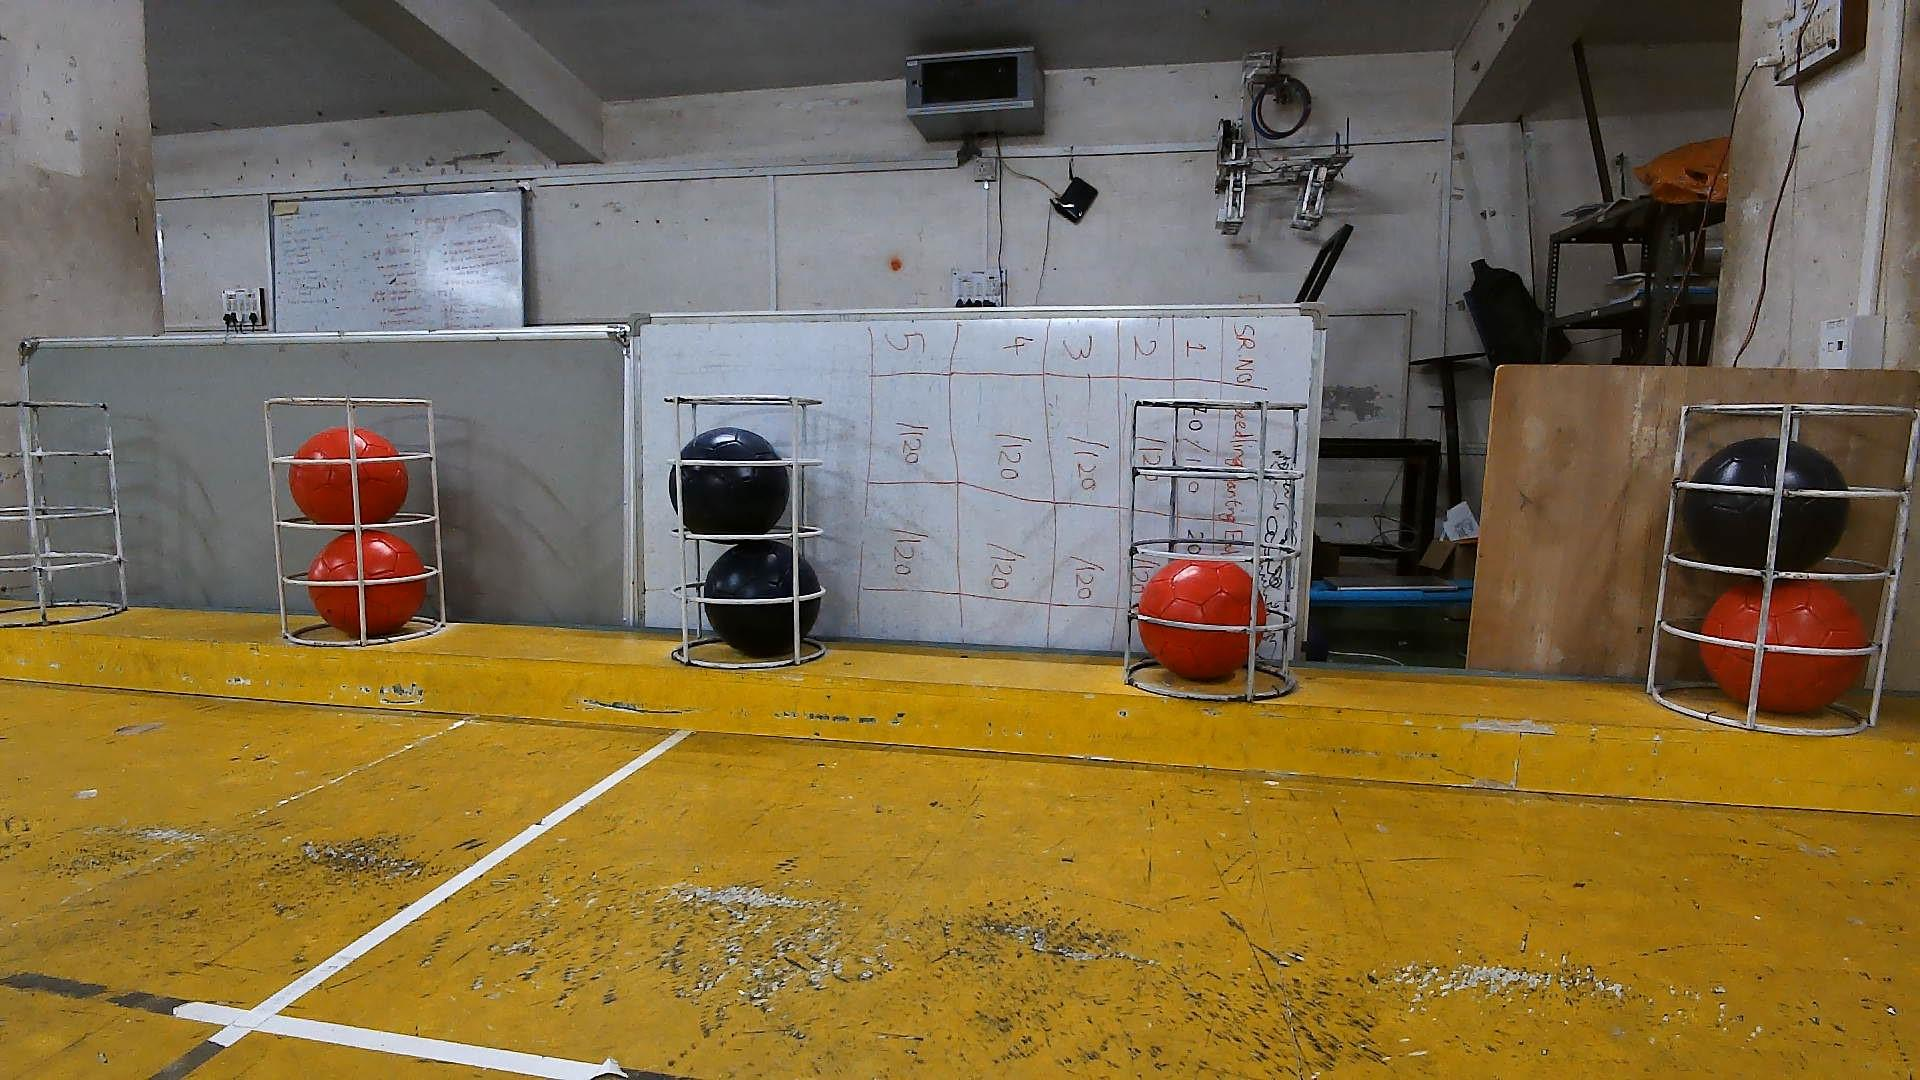dhoka: (1680, 435, 1849, 570), (705, 541, 822, 657), (683, 427, 791, 537)
laale: (1698, 582, 1867, 715), (1137, 559, 1267, 680), (307, 533, 427, 637), (289, 427, 409, 525)
